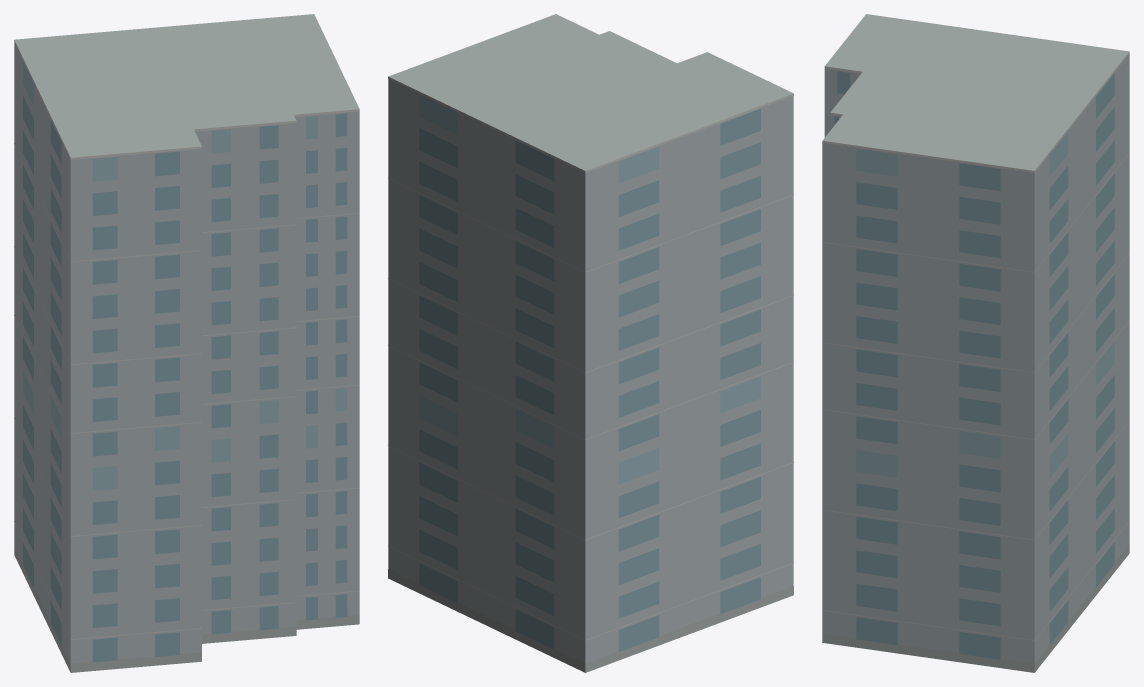
The model's file is residential-c2ea196f-4e3c-4341-9d9a-7d7b49a90806.glb.
The picture shows the model from 3 angles, left to right: view 1: azimuth 30°, elevation 25°; view 2: azimuth 150°, elevation 25°; view 3: azimuth 270°, elevation 25°; orthographic projection. The views are drawn at different scales.
Parts seen in each view (by area): view 1: residential-c2ea196f-4e3c-4341-9d9a-7d7b49a90806.tmp; view 2: residential-c2ea196f-4e3c-4341-9d9a-7d7b49a90806.tmp; view 3: residential-c2ea196f-4e3c-4341-9d9a-7d7b49a90806.tmp.
Part boxes in pixels (x1,y1,x2,y2): residential-c2ea196f-4e3c-4341-9d9a-7d7b49a90806.tmp: [14, 14, 359, 672]; residential-c2ea196f-4e3c-4341-9d9a-7d7b49a90806.tmp: [388, 14, 793, 672]; residential-c2ea196f-4e3c-4341-9d9a-7d7b49a90806.tmp: [822, 14, 1129, 672].
Size of the model in its own units: 38.32 by 57.13 by 31.71.
